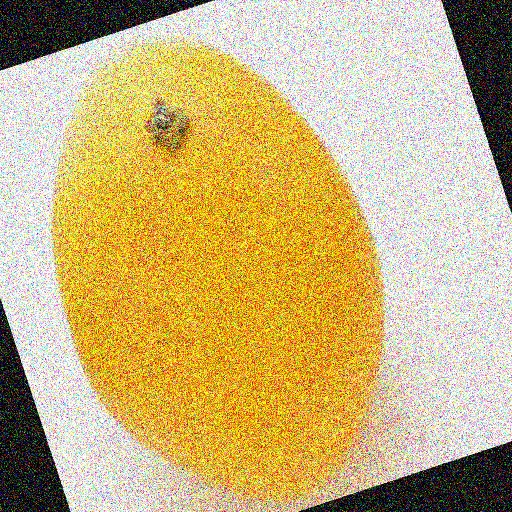fruit: (5, 208, 166, 512)
